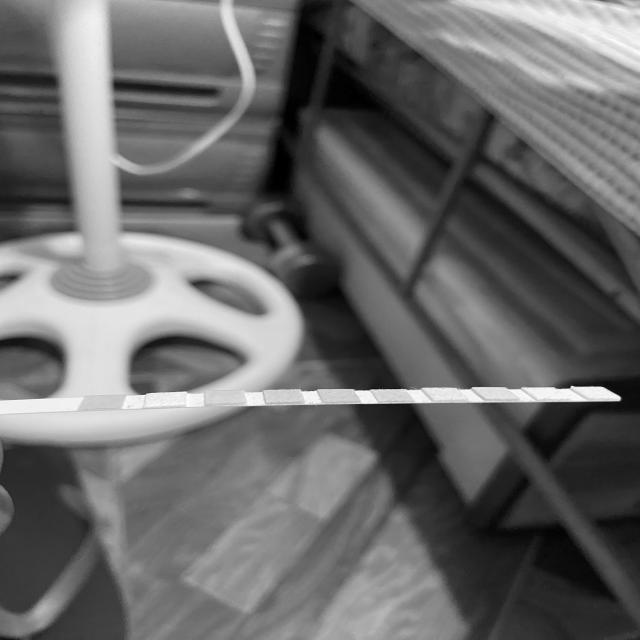Bilirubin: (147, 394, 184, 406)
Blood: (324, 389, 354, 402)
Glucose: (86, 396, 121, 408)
Ketone: (207, 391, 244, 404)
Leukocytes: (588, 387, 604, 398)
Nitrite: (537, 388, 556, 398)
Protein: (434, 388, 458, 401)
SpGravity: (266, 391, 302, 402)
Urobilinogen: (485, 388, 507, 399)
background: (0, 0, 640, 640)
pH: (379, 390, 406, 401)
strip: (0, 386, 621, 414)
